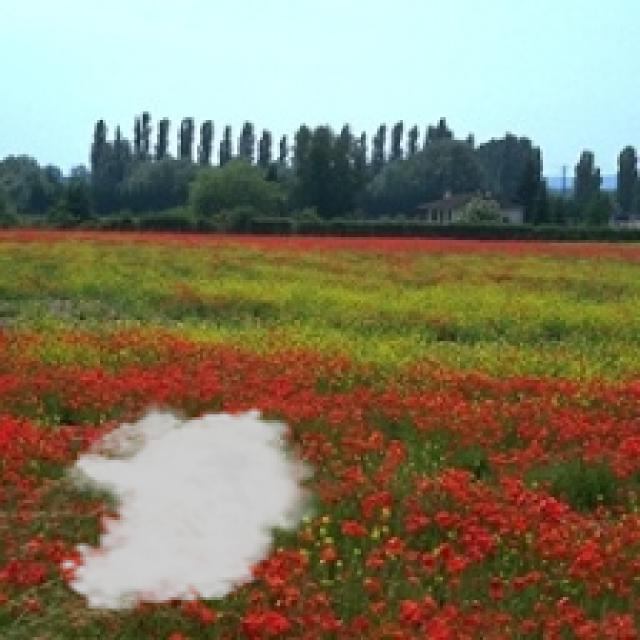smoke: (57, 394, 329, 614)
